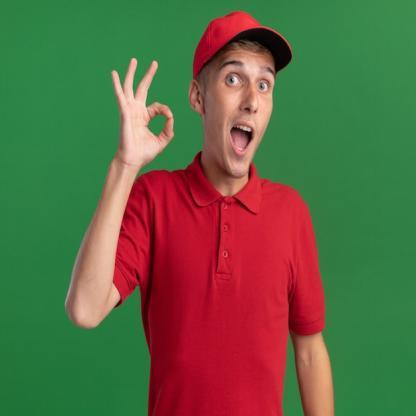ok: (108, 54, 178, 166)
